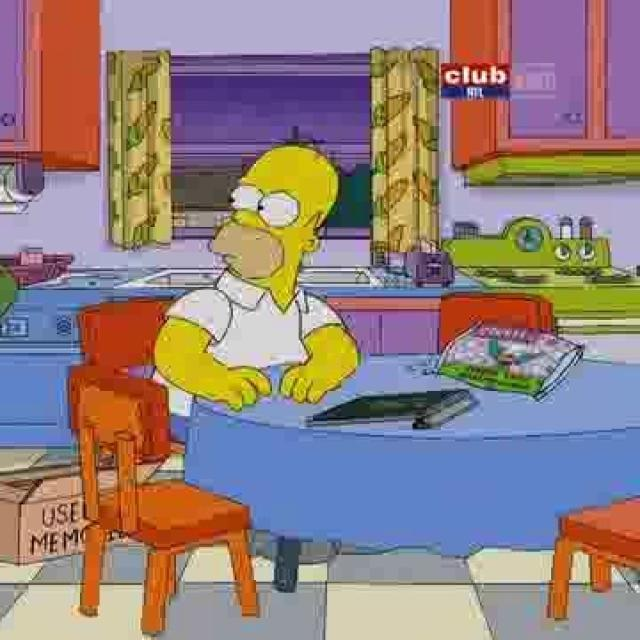Homer Simpson: (204, 135, 348, 310)
